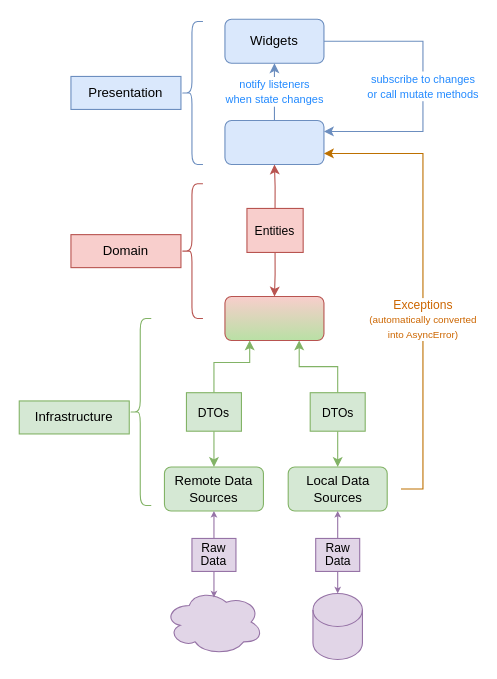
Image size: 497x679. Some labels were removed from this diagram. The centre of each missing label's shape, as x and y in pixels:
"API" belongs at (x=213, y=621).
"Local DB" belongs at (x=337, y=625).
"Providers (also act as services or use cases)" belongs at (x=274, y=141).
"Repositories" belongs at (x=274, y=317).
